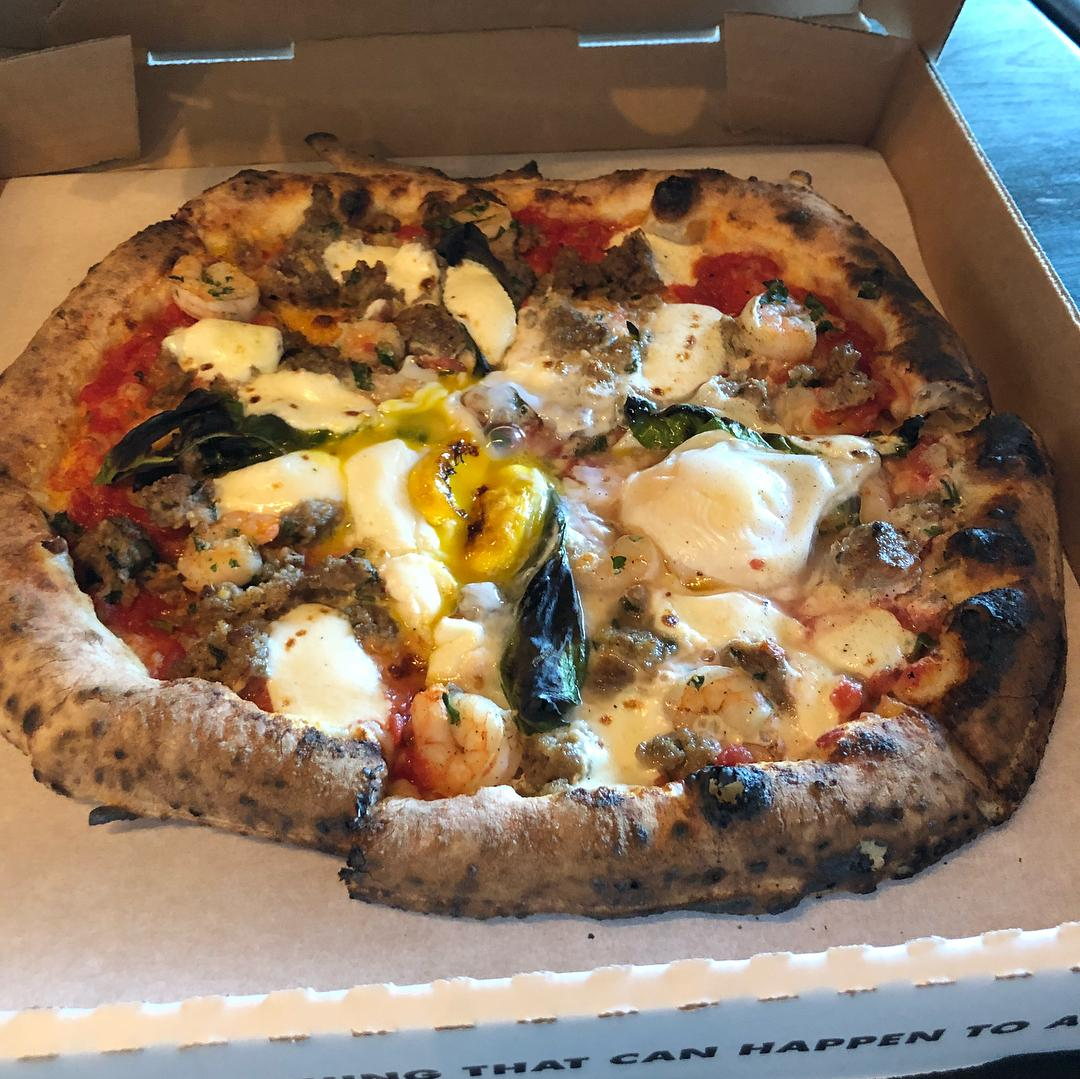Basil: (86, 378, 341, 497), (500, 498, 591, 734), (617, 395, 929, 463), (417, 206, 522, 308)
Cheese: (618, 430, 882, 589), (254, 602, 401, 757), (330, 433, 443, 631), (239, 364, 387, 441), (708, 270, 815, 369), (637, 298, 735, 406), (649, 582, 804, 650), (212, 448, 351, 523), (163, 310, 288, 388), (813, 600, 926, 678), (323, 237, 444, 306), (443, 261, 524, 364)
Pizza: (0, 150, 1068, 925)
